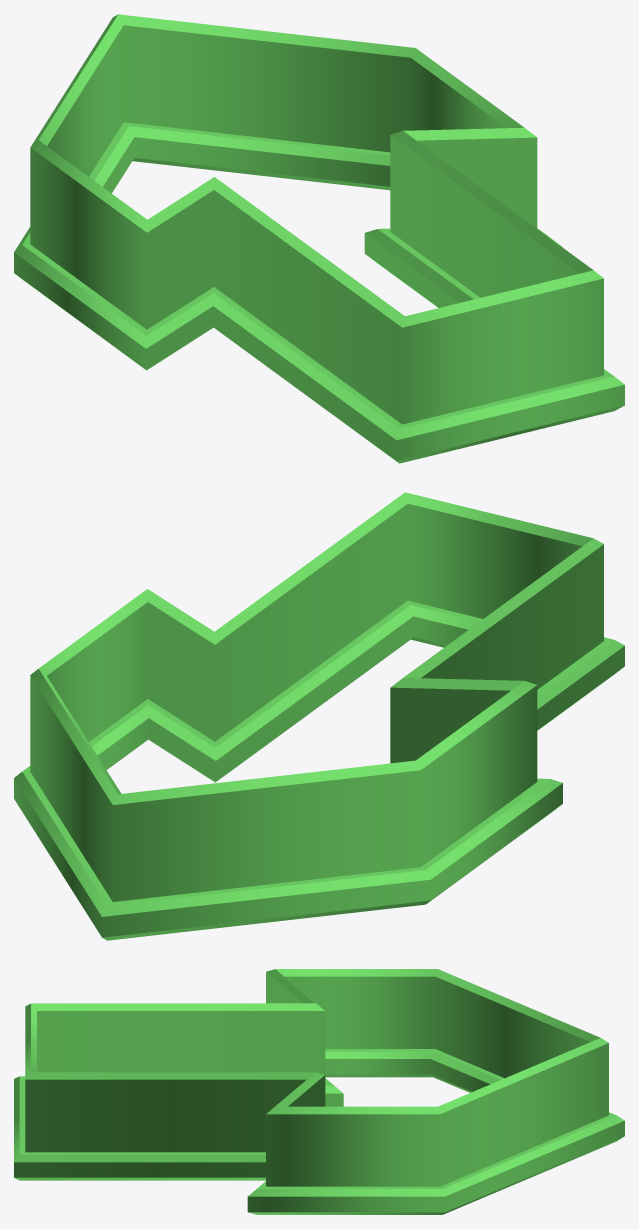
File: ArrowBiscuitCutter.glb
3 renders of one model, top to bottom at view 1: azimuth 30°, elevation 25°; view 2: azimuth 150°, elevation 25°; view 3: azimuth 270°, elevation 25°, orthographic. The views are drawn at different scales.
Parts seen in each view (by area): view 1: arrow_cookie_cutter_CookieCutter_Arrow01.1; view 2: arrow_cookie_cutter_CookieCutter_Arrow01.1; view 3: arrow_cookie_cutter_CookieCutter_Arrow01.1.
Part boxes in pixels (x1=…): arrow_cookie_cutter_CookieCutter_Arrow01.1: x1=14, y1=14, x2=624, y2=463; arrow_cookie_cutter_CookieCutter_Arrow01.1: x1=14, y1=492, x2=624, y2=940; arrow_cookie_cutter_CookieCutter_Arrow01.1: x1=14, y1=969, x2=624, y2=1214.
Bounding box in the file's own units: 0.6298 × 0.2 × 1.07.
1 material, 1 textured.
